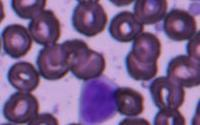L: (78, 75, 118, 125)
